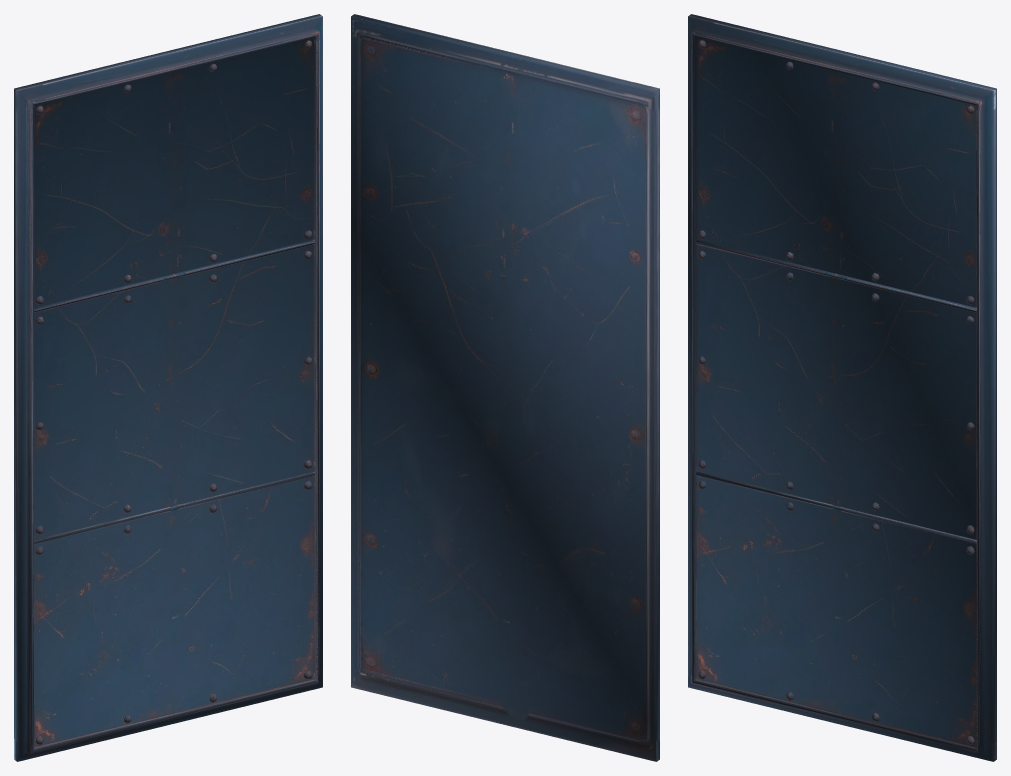
The model's file is wall-blue.glb.
3 views of the same model, side by side, from view 1: azimuth 30°, elevation 25°; view 2: azimuth 150°, elevation 25°; view 3: azimuth 330°, elevation 25° (orthographic).
Visible parts, largest first — view 1: Meshy_Mesh_0; view 2: Meshy_Mesh_0; view 3: Meshy_Mesh_0.
Part boxes in pixels (bbox=[...]): Meshy_Mesh_0: bbox=[14, 14, 322, 761]; Meshy_Mesh_0: bbox=[351, 14, 659, 761]; Meshy_Mesh_0: bbox=[688, 14, 996, 761].
Size of the model in its own units: 0.9531 by 2 by 0.0503.
1 material, 1 textured.
